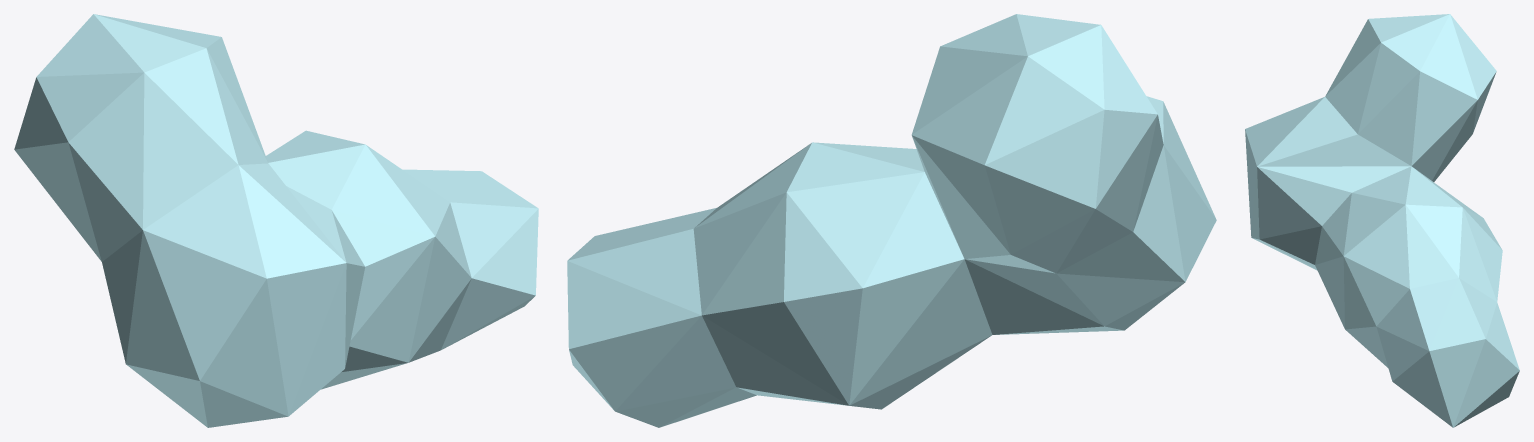
File: Cloud_9.glb
The picture shows the model from 3 angles, left to right: view 1: azimuth 30°, elevation 25°; view 2: azimuth 150°, elevation 25°; view 3: azimuth 270°, elevation 25°; orthographic projection. The views are drawn at different scales.
Visible parts, largest first — view 1: Cloud_09; view 2: Cloud_09; view 3: Cloud_09.
Boxes of the visible parts, <box> form: Cloud_09: <box>14,14,538,427</box>; Cloud_09: <box>567,14,1216,427</box>; Cloud_09: <box>1245,14,1519,427</box>.
Bounding box in the file's own units: 2.94 × 2.39 × 2.03.
